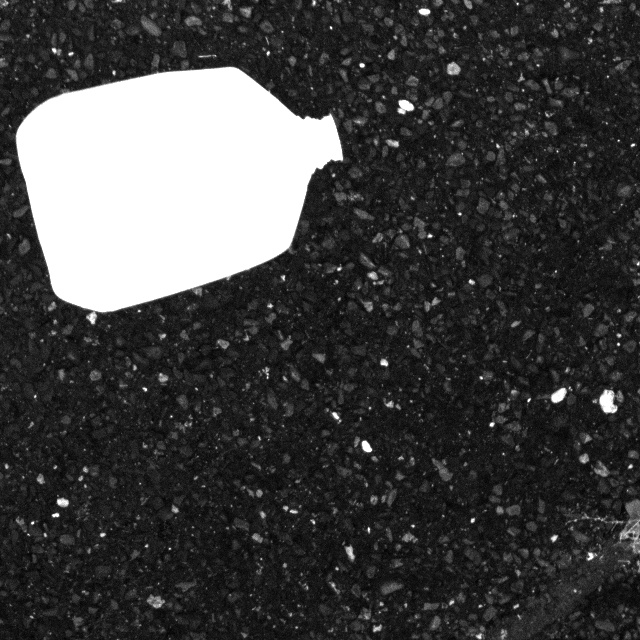can: (2, 49, 359, 329)
